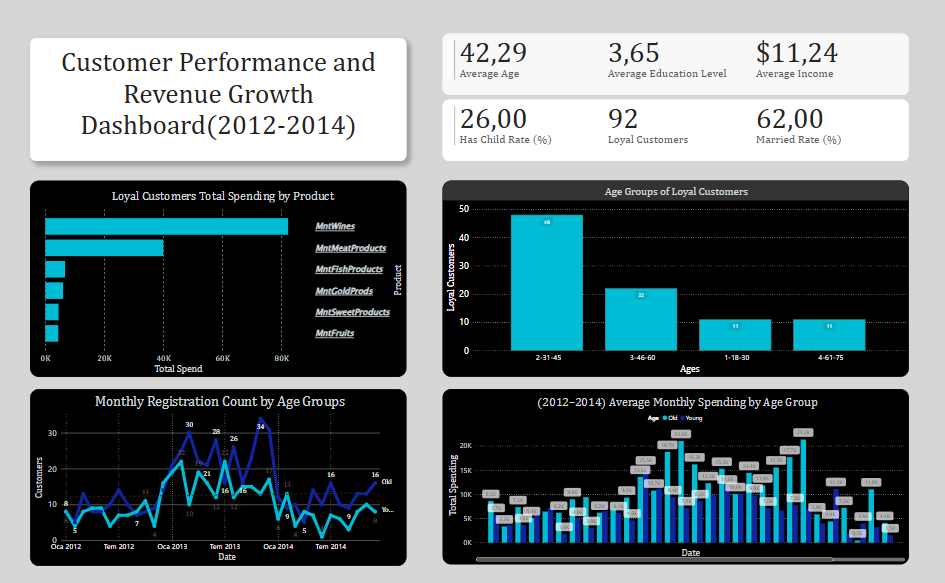

What the dashboard file says about the page in this screenshot:
{"tool":"powerbi","page":{"name":"Page 6","canvas":[2100,1300],"ordinal":0},"visuals":[{"type":"card","title":"Customer Performance and Revenue Growth Dashboard(2012-2014)","fields":{"Values":["loyal_customer_profile_summary.Has Child Rate (%)"]},"box":[66.7,86.7,836.7,273.3],"z":0},{"type":"clusteredBarChart","title":"Loyal Customers Total Spending by Product","fields":{"Category":["product_spending_summary.Product"],"Y":["Sum(product_spending_summary.Total_Spent)"]},"box":[66.7,403.3,836.7,436.7],"z":1000},{"type":"lineChart","title":"Monthly Registration Count by Age Groups","fields":{"Category":["age_time_grouped.month_year.Variation.Date Hierarchy.Year"],"Y":["CountNonNull(age_time_grouped.ID)"],"Series":["age_time_grouped.Age_Group_Label"]},"box":[66.7,866.7,836.7,393.3],"z":2000},{"type":"lineClusteredColumnComboChart","title":"(2012–2014) Average Monthly Spending by Age Group","fields":{"Category":["age_time_grouped.month_year.Variation.Date Hierarchy.Year","age_time_grouped.month_year.Variation.Date Hierarchy.Quarter","age_time_grouped.month_year.Variation.Date Hierarchy.Month","age_time_grouped.month_year.Variation.Date Hierarchy.Day"],"Y":["Sum(age_time_grouped.Total_Spending)"],"Series":["age_time_grouped.Age_Group_Label"]},"box":[983.3,866.7,1036.7,390],"z":3000},{"type":"clusteredColumnChart","title":"Age Groups of Loyal Customers","fields":{"Category":["loyal_age_group_distribution_clean.Age_Group"],"Y":["Sum(loyal_age_group_distribution_clean.Loyal_Customer_Count)"]},"box":[983.3,403.3,1036.7,436.7],"z":4000},{"type":"multiRowCard","fields":{"Values":["loyal_customer_profile_summary.Average Age","loyal_customer_profile_summary.Average Education Level","loyal_customer_profile_summary.Average Income"]},"box":[983.3,75,1036.7,136.7],"z":11000},{"type":"multiRowCard","fields":{"Values":["loyal_customer_profile_summary.Has Child Rate (%)","loyal_age_group_distribution_clean.Loyal Customers","loyal_customer_profile_summary.Married Rate (%)"]},"box":[983.3,223.3,1036.7,136.7],"z":12000}]}

Visuals, with their boxes in screenshot pixels (x1, y1, x2, y2), scaled from the page's 2100x1300 canvas onto the 945x583 screenshot:
"Customer Performance and Revenue Growth Dashboard(2012-2014)" card: box(30, 39, 407, 161)
"Loyal Customers Total Spending by Product" clusteredBarChart: box(30, 181, 407, 377)
"Monthly Registration Count by Age Groups" lineChart: box(30, 389, 407, 565)
"(2012–2014) Average Monthly Spending by Age Group" lineClusteredColumnComboChart: box(442, 389, 909, 564)
"Age Groups of Loyal Customers" clusteredColumnChart: box(442, 181, 909, 377)
multiRowCard - loyal_customer_profile_summary.Average Age x loyal_customer_profile_summary.Average Education Level: box(442, 34, 909, 95)
multiRowCard - loyal_customer_profile_summary.Has Child Rate (%) x loyal_age_group_distribution_clean.Loyal Customers: box(442, 100, 909, 161)
